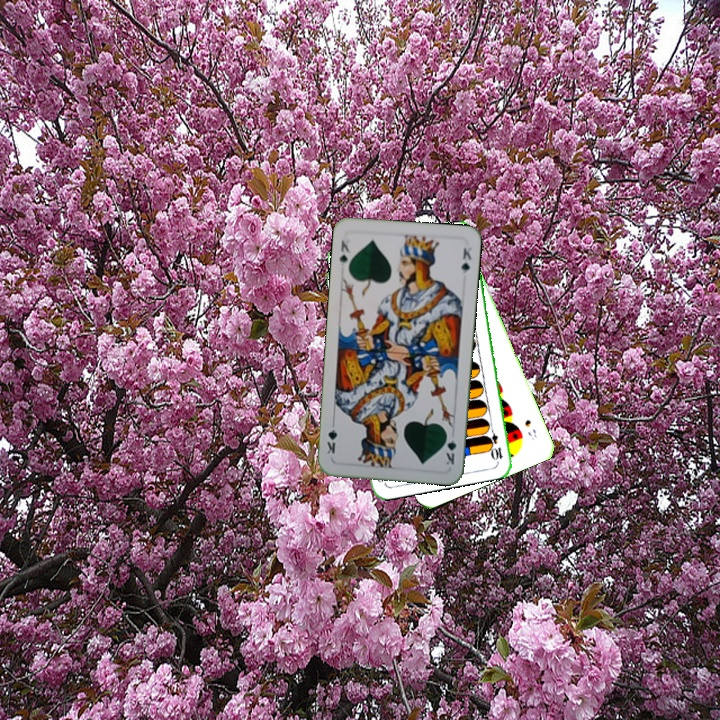E10: (485, 422, 505, 463)
GK: (442, 428, 459, 467), (335, 236, 353, 272)
S8: (520, 415, 539, 443)
